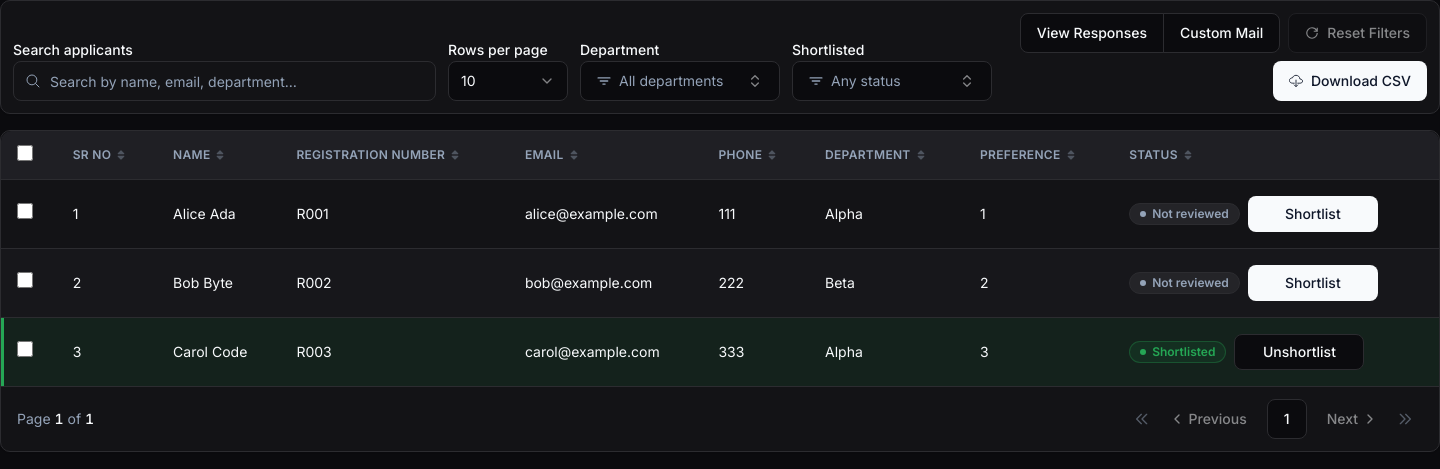
Test: DataTable › keeps the optimistic shortlist update when the request succeeds
What coordinates should you click on to do the following:
click the button named "Shortlist Alice Ada"
I would click on:
 (1313, 214)
Its box is [1248,196,1378,232].
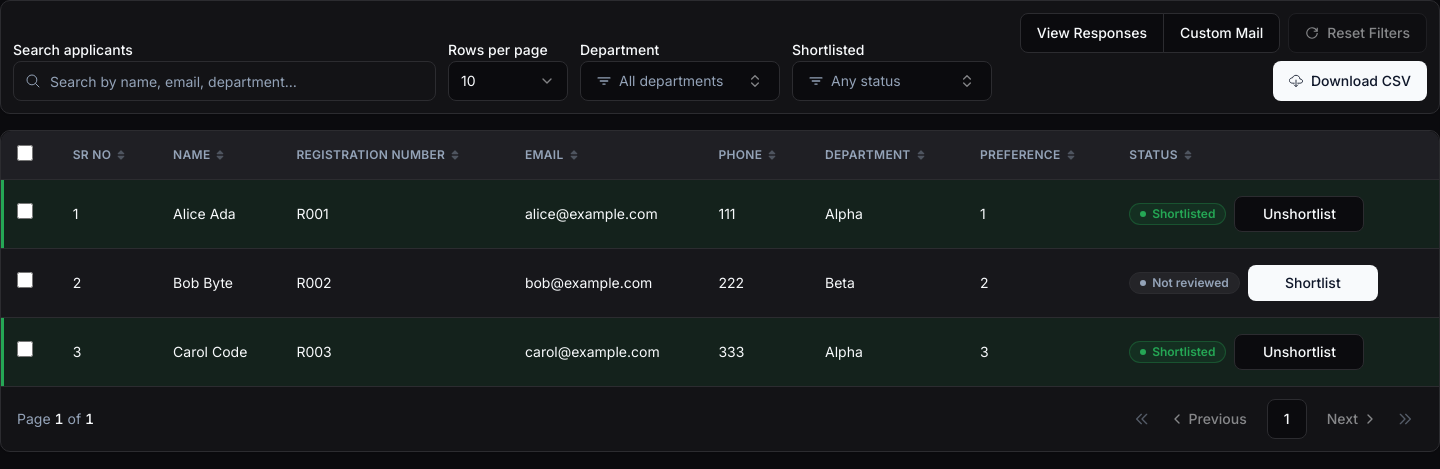
expect the button named "Remove shortlist from Alice Ada" is shown: met, box [1234,196,1364,232]
